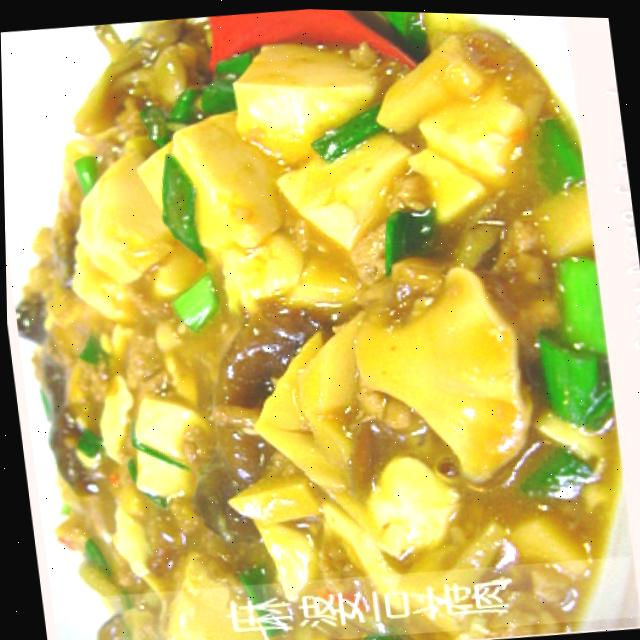豆腐料理: (0, 0, 622, 607)
